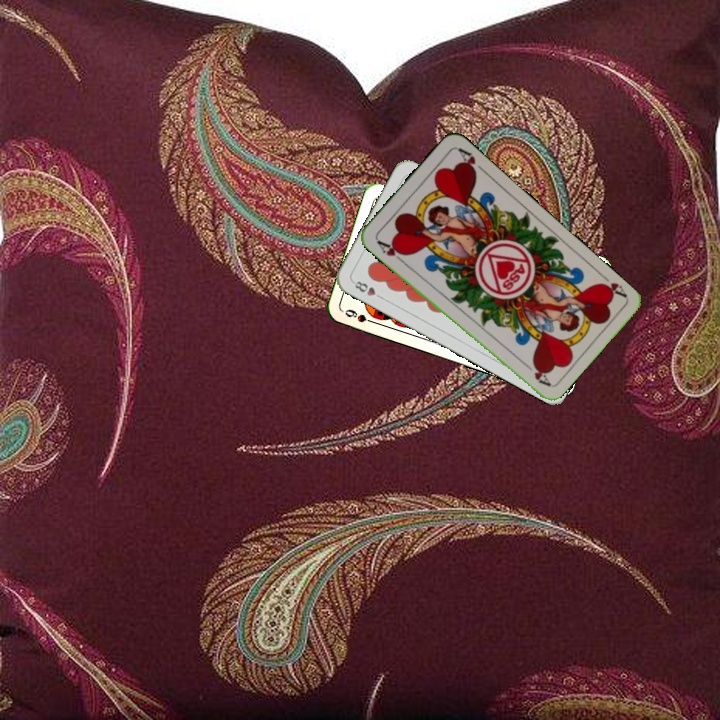H8: (349, 277, 386, 302)
HA: (594, 269, 629, 300), (372, 236, 408, 265)
S9: (341, 305, 380, 327)
